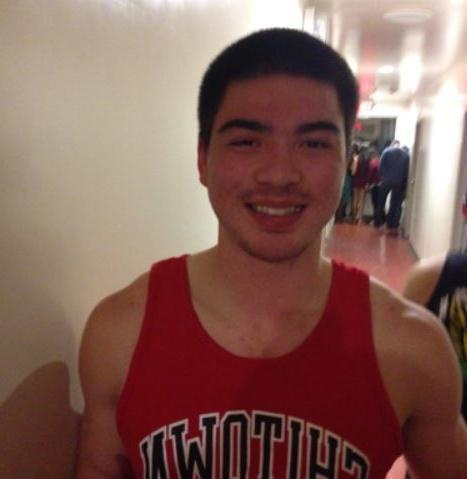Drunk: (214, 81, 338, 251)
